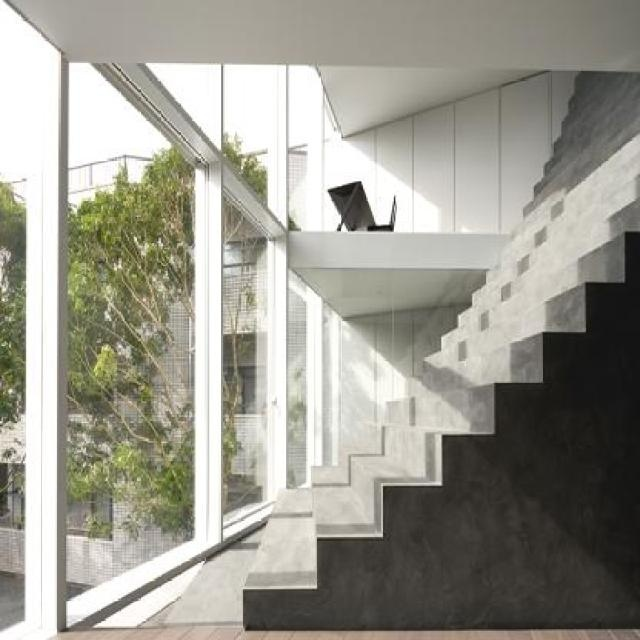stair: (151, 74, 638, 637)
